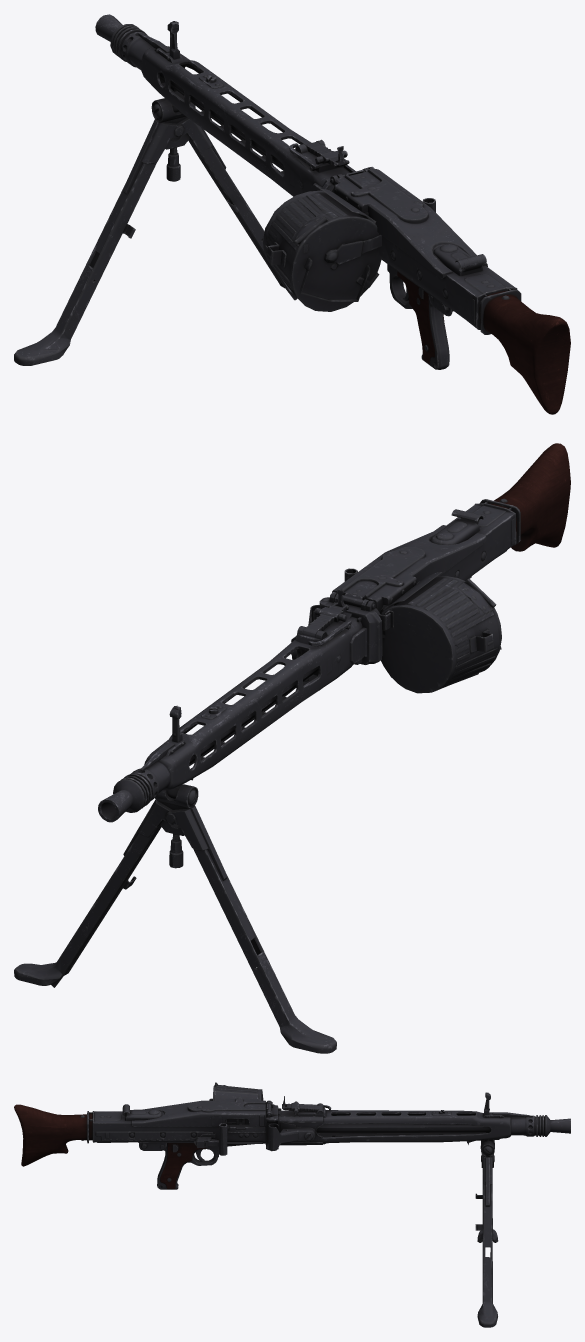
3 views of the same model, one above another, from view 1: azimuth 30°, elevation 25°; view 2: azimuth 150°, elevation 25°; view 3: azimuth 270°, elevation 25° (orthographic). The views are drawn at different scales.
Parts seen in each view (by area): view 1: model_0.002; view 2: model_0.002; view 3: model_0.002.
Boxes of the visible parts, <box> form: model_0.002: <box>14,14,570,414</box>; model_0.002: <box>14,443,570,1053</box>; model_0.002: <box>14,1082,570,1327</box>.
Size of the model in its own units: 12.78 by 11.96 by 31.63.
Materials: 1 (1 with a texture image).
